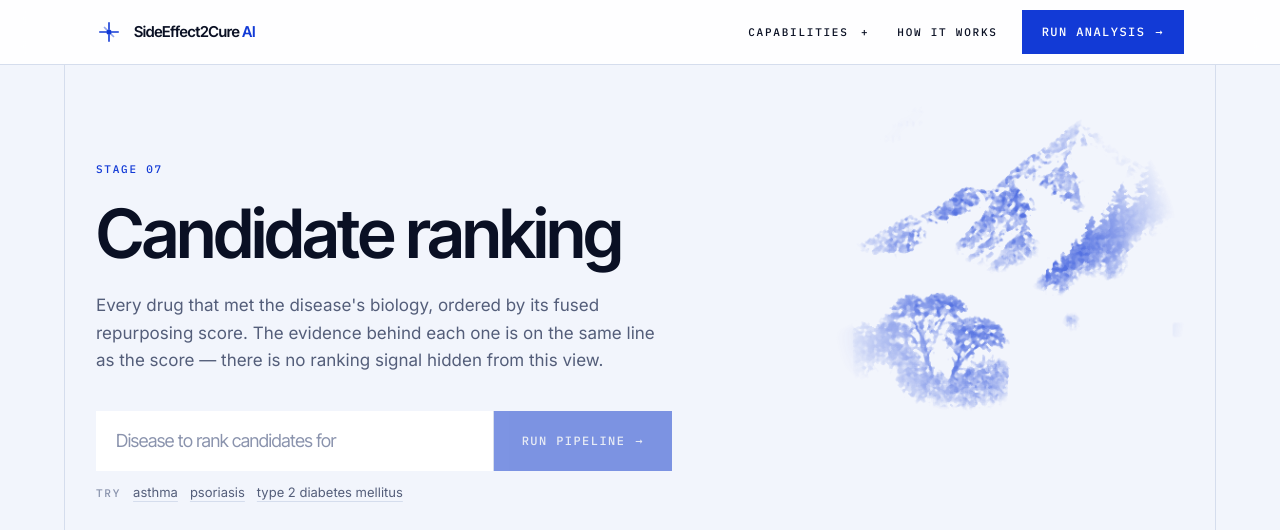
it: candidate ranking › surfaces an ambiguous disease as the backend's own alternatives
This screenshot has width=1280, height=530.
Type "cancer" into the field labelled "Disease to rank candidates for".
click(294, 441); type("cancer")  # box [96,411,493,471]
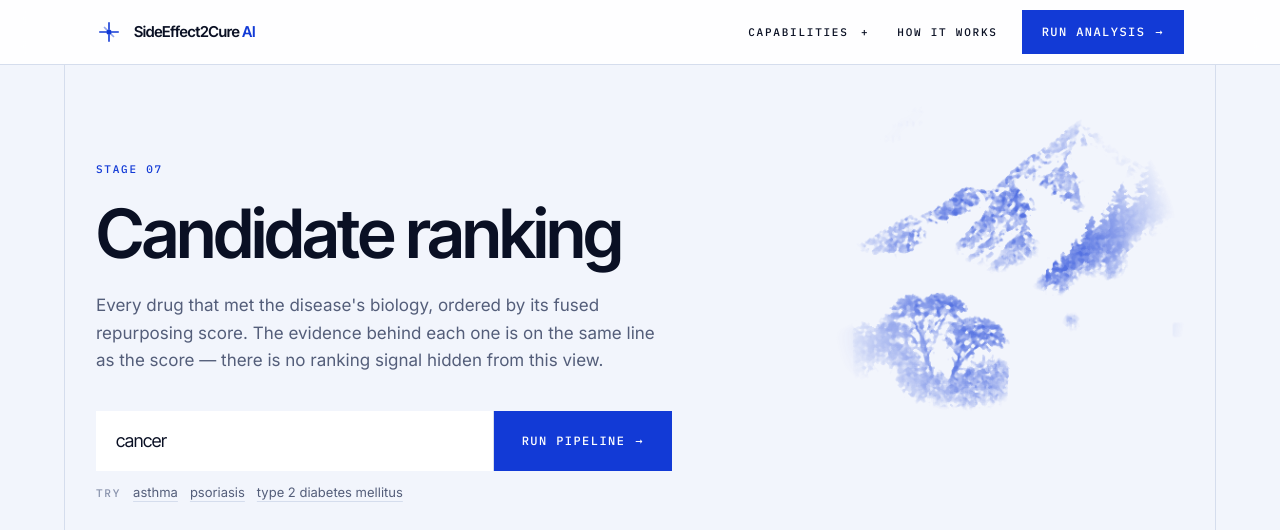
Click the button "Run pipeline →".
click(583, 441)  # box [494,411,672,471]
(page scrolled)
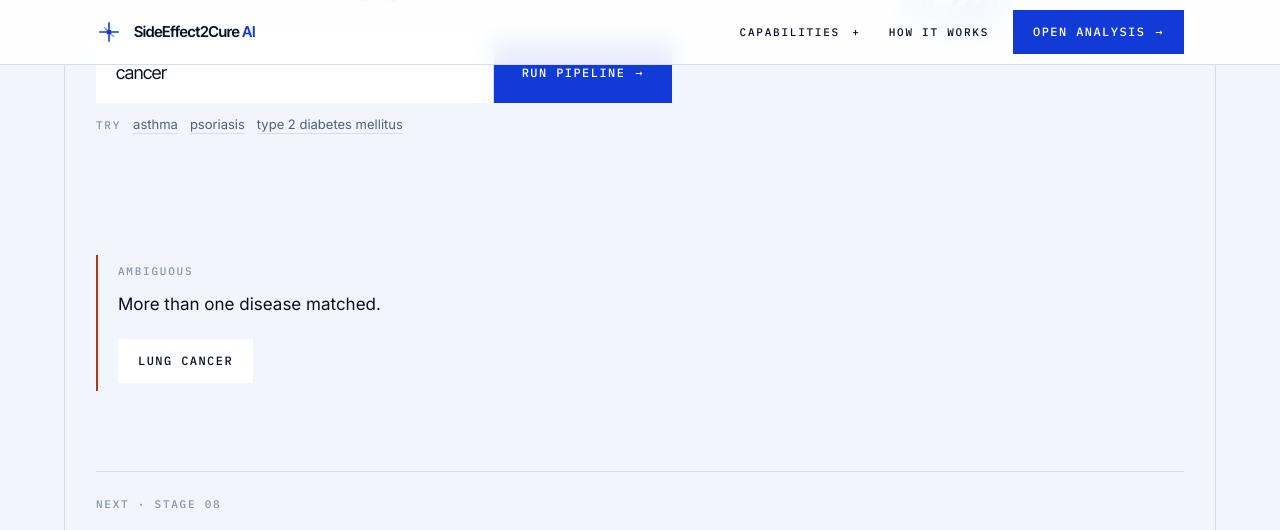
Expected: the text "More than one disease matched." is shown, [118,294,381,314]
Expected: the button "lung cancer" is shown, [118,339,253,383]
